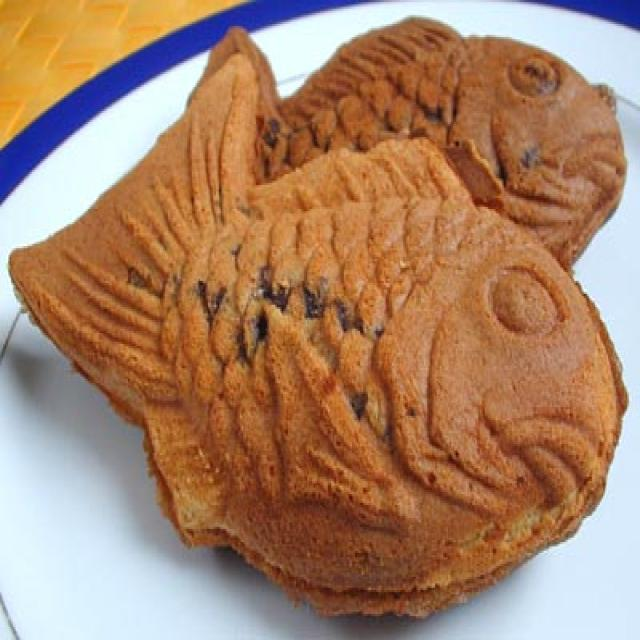熟制海鲜: (6, 11, 629, 612)
